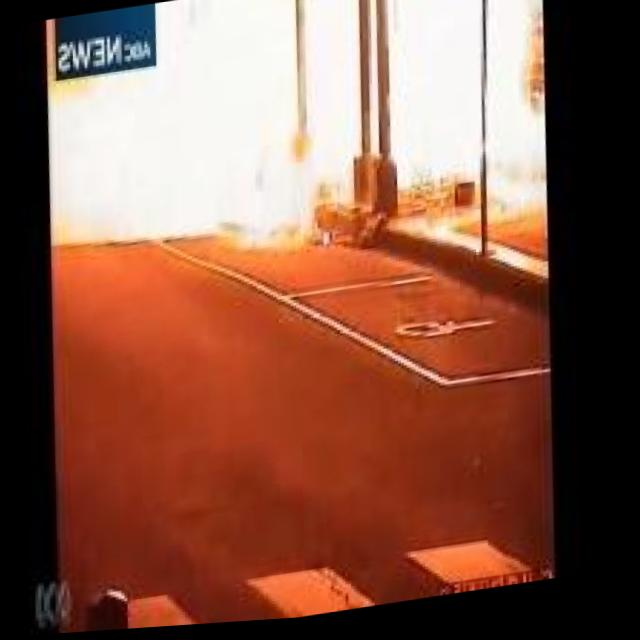fire: (36, 0, 562, 272)
